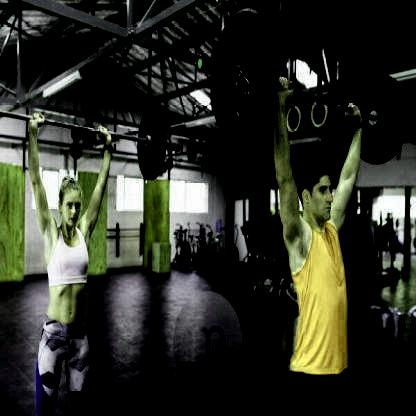Barbell: (195, 54, 208, 75)
